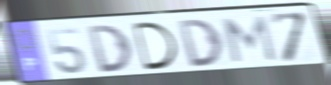5: (44, 26, 88, 76)
7: (272, 10, 308, 64)
D: (130, 20, 181, 72), (175, 17, 225, 69), (85, 23, 135, 75)
M: (220, 14, 279, 65)
